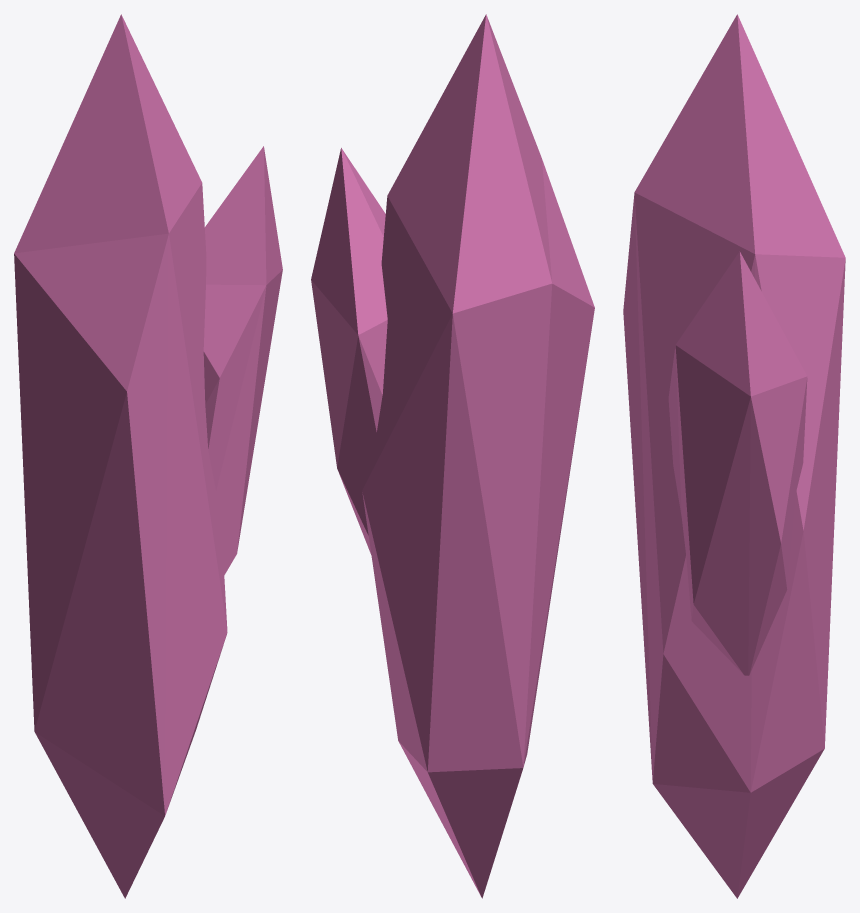
File: cristal_rosa.fbx
The picture shows the model from 3 angles, left to right: view 1: azimuth 30°, elevation 25°; view 2: azimuth 150°, elevation 25°; view 3: azimuth 270°, elevation 25°; orthographic projection.
Visible parts, largest first — view 1: cristal.002; view 2: cristal.002; view 3: cristal.002.
Boxes of the visible parts, box(x1,y1,x2,y2) form: cristal.002: box(14, 14, 282, 898); cristal.002: box(311, 14, 594, 898); cristal.002: box(623, 14, 845, 898).
Size of the model in its own units: 178 by 592 by 135.
